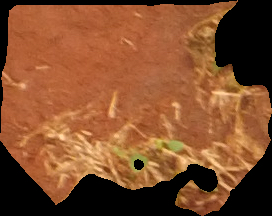soil: (4, 3, 264, 207)
